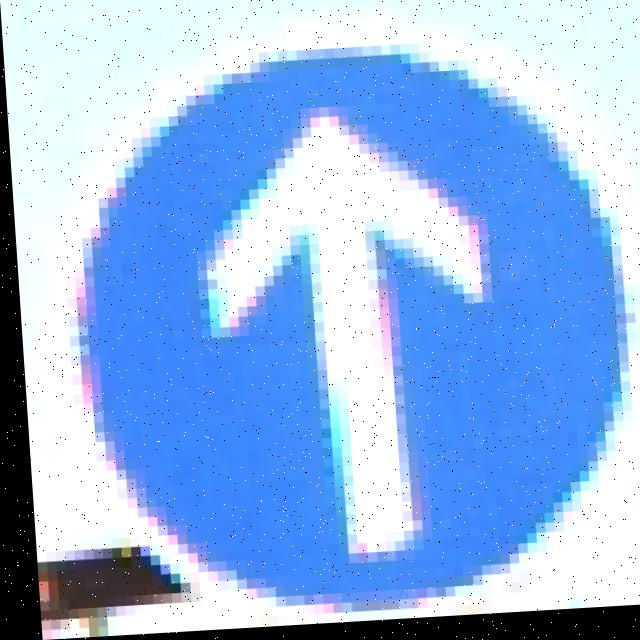compulsory_ahead: (81, 23, 640, 604)
